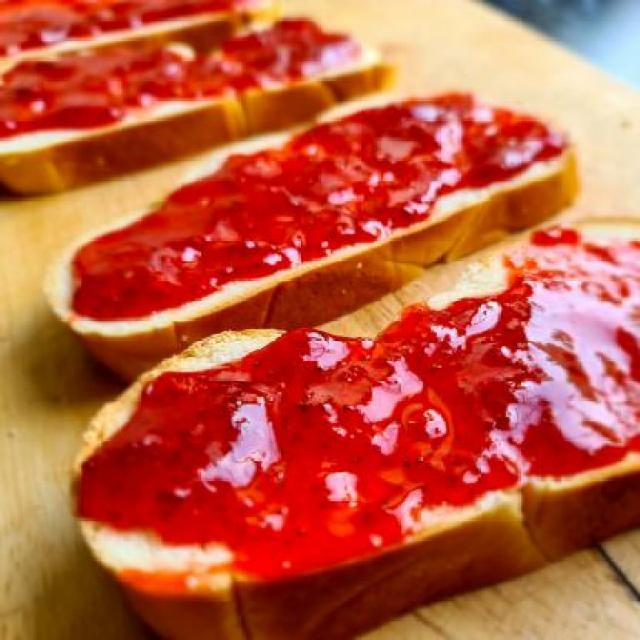Spread: (78, 246, 640, 572), (70, 97, 572, 321)
